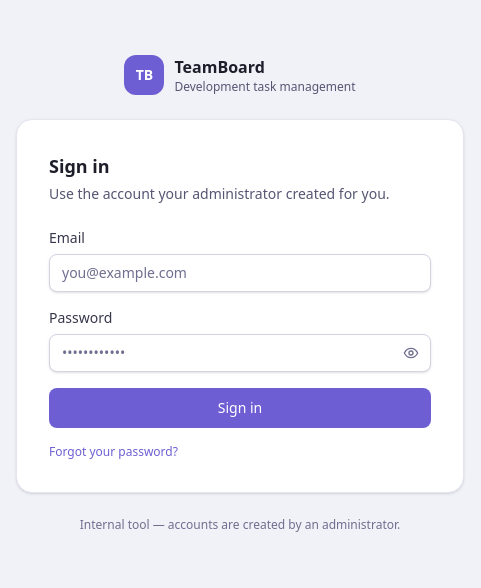
LoginPage › shows the lockout message when the account is locked
The width and height of the screenshot is (481, 588).
Type "dev@example.com" into the field labelled "Email" at [240, 273], box [49,254,431,292]
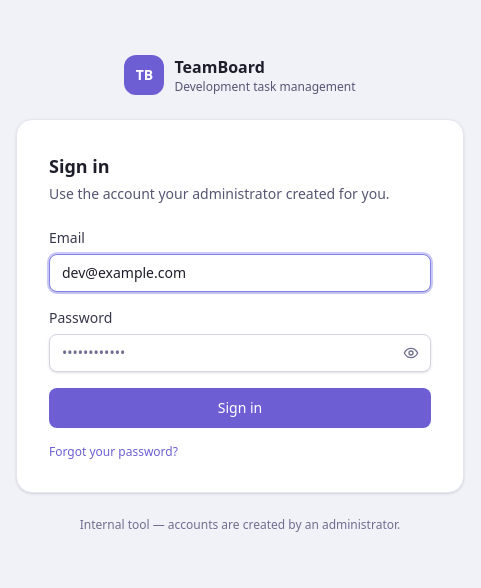
Type "Wrong_Password_1!" into the password field labelled "Password" at [240, 353], box [49,334,431,372]
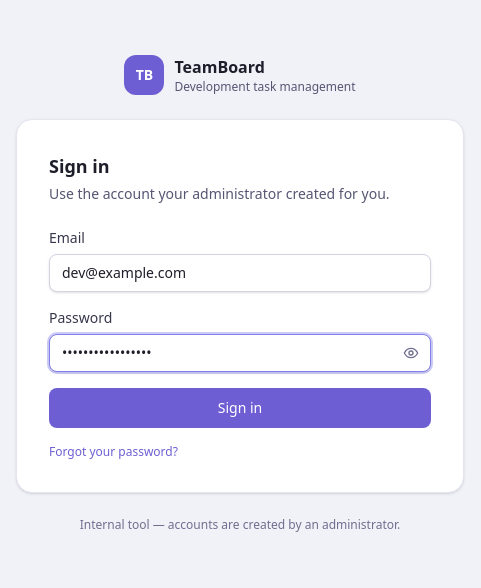
Click the button "Sign in" at [240, 408], box [49,388,431,428]
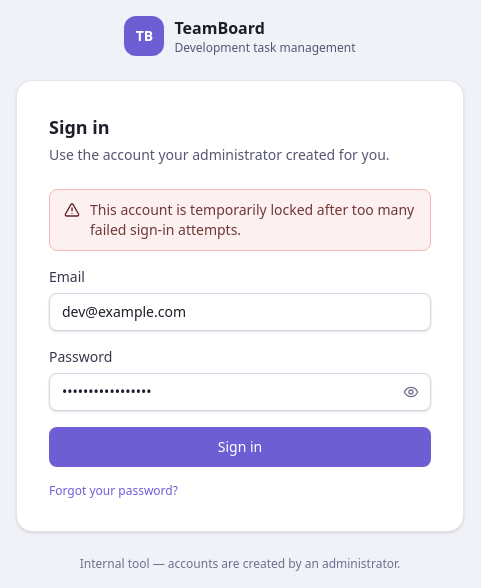
Expected: the message shows "temporarily locked", [90,200,414,239]
